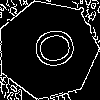O: (22, 25, 78, 74)
